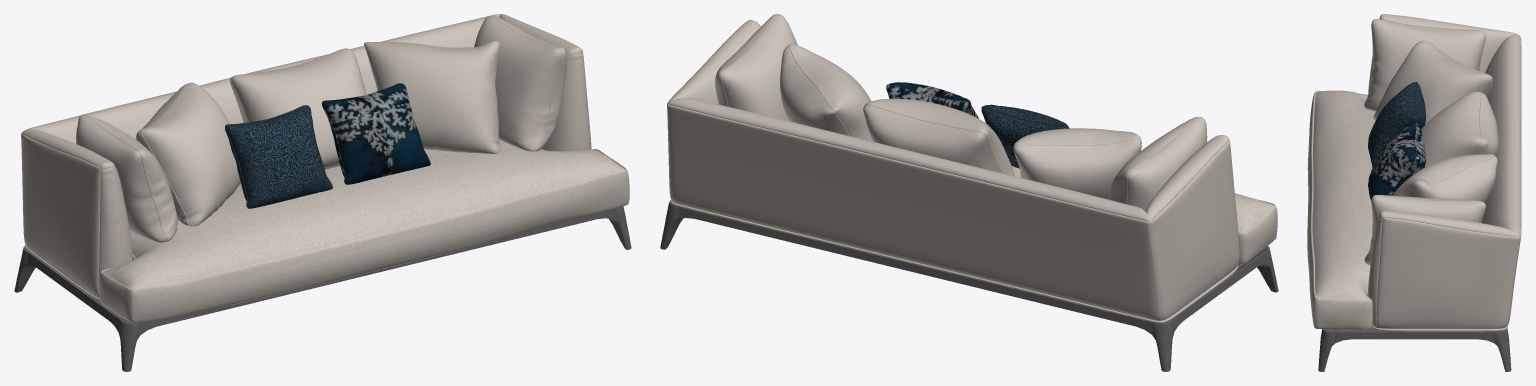
File: sofa_3.glb
3 views of the same model, side by side, from view 1: azimuth 30°, elevation 25°; view 2: azimuth 150°, elevation 25°; view 3: azimuth 270°, elevation 25° (orthographic). The views are drawn at different scales.
Parts seen in each view (by area): view 1: Geom3D (×2), Geom3D_3DGeom~1_Defintion#2_3DGeom~1, Geom3D_3DGeom~7_Defintion#3_3DGeom~7, Geom3D_3DGeom~6_Defintion#3_3DGeom~6, Geom3D_3DGeom~8_Defintion#2_3DGeom~8, Geom3D_3DGeom~9_Defintion#1_3DGeom~9, Geom3D_3DGeom~4_Defintion#2_3DGeom~4, Geom3D_3DGeom~5_Defintion#2_3DGeom~5, Geom3D_3DGeom~3_Defintion#2_3DGeom~3; view 2: Geom3D_3DGeom~1_Defintion#2_3DGeom~1, Geom3D_3DGeom~3_Defintion#2_3DGeom~3, Geom3D_3DGeom~4_Defintion#2_3DGeom~4, Geom3D_3DGeom~6_Defintion#3_3DGeom~6, Geom3D_3DGeom~7_Defintion#3_3DGeom~7, Geom3D_3DGeom~8_Defintion#2_3DGeom~8, Geom3D_3DGeom~5_Defintion#2_3DGeom~5, Geom3D (×2), Geom3D_3DGeom~9_Defintion#1_3DGeom~9; view 3: Geom3D_3DGeom~1_Defintion#2_3DGeom~1, Geom3D (×2), Geom3D_3DGeom~5_Defintion#2_3DGeom~5, Geom3D_3DGeom~6_Defintion#3_3DGeom~6, Geom3D_3DGeom~4_Defintion#2_3DGeom~4, Geom3D_3DGeom~7_Defintion#3_3DGeom~7, Geom3D_3DGeom~3_Defintion#2_3DGeom~3, Geom3D_3DGeom~8_Defintion#2_3DGeom~8, Geom3D_3DGeom~9_Defintion#1_3DGeom~9.
Boxes of the visible parts, x1=… form: Geom3D (×2): x1=99, y1=83, x2=629, y2=322; Geom3D_3DGeom~1_Defintion#2_3DGeom~1: x1=21, y1=14, x2=591, y2=300; Geom3D_3DGeom~7_Defintion#3_3DGeom~7: x1=364, y1=40, x2=500, y2=153; Geom3D_3DGeom~6_Defintion#3_3DGeom~6: x1=135, y1=82, x2=240, y2=226; Geom3D_3DGeom~8_Defintion#2_3DGeom~8: x1=474, y1=15, x2=566, y2=151; Geom3D_3DGeom~9_Defintion#1_3DGeom~9: x1=225, y1=105, x2=332, y2=208; Geom3D_3DGeom~4_Defintion#2_3DGeom~4: x1=230, y1=48, x2=366, y2=169; Geom3D_3DGeom~5_Defintion#2_3DGeom~5: x1=76, y1=114, x2=177, y2=242; Geom3D_3DGeom~3_Defintion#2_3DGeom~3: x1=14, y1=206, x2=631, y2=371; Geom3D_3DGeom~1_Defintion#2_3DGeom~1: x1=667, y1=20, x2=1239, y2=323; Geom3D_3DGeom~3_Defintion#2_3DGeom~3: x1=660, y1=200, x2=1278, y2=371; Geom3D_3DGeom~4_Defintion#2_3DGeom~4: x1=863, y1=98, x2=1014, y2=176; Geom3D_3DGeom~6_Defintion#3_3DGeom~6: x1=1013, y1=128, x2=1141, y2=199; Geom3D_3DGeom~7_Defintion#3_3DGeom~7: x1=780, y1=44, x2=872, y2=141; Geom3D_3DGeom~8_Defintion#2_3DGeom~8: x1=715, y1=14, x2=797, y2=120; Geom3D_3DGeom~5_Defintion#2_3DGeom~5: x1=1108, y1=116, x2=1207, y2=211; Geom3D (×2): x1=886, y1=82, x2=1277, y2=264; Geom3D_3DGeom~9_Defintion#1_3DGeom~9: x1=981, y1=104, x2=1069, y2=168; Geom3D_3DGeom~1_Defintion#2_3DGeom~1: x1=1368, y1=14, x2=1521, y2=331; Geom3D (×2): x1=1307, y1=90, x2=1425, y2=329; Geom3D_3DGeom~5_Defintion#2_3DGeom~5: x1=1364, y1=19, x2=1485, y2=111; Geom3D_3DGeom~6_Defintion#3_3DGeom~6: x1=1373, y1=40, x2=1492, y2=124; Geom3D_3DGeom~4_Defintion#2_3DGeom~4: x1=1421, y1=91, x2=1498, y2=167; Geom3D_3DGeom~7_Defintion#3_3DGeom~7: x1=1392, y1=154, x2=1497, y2=203; Geom3D_3DGeom~3_Defintion#2_3DGeom~3: x1=1318, y1=328, x2=1511, y2=371; Geom3D_3DGeom~8_Defintion#2_3DGeom~8: x1=1364, y1=195, x2=1485, y2=265; Geom3D_3DGeom~9_Defintion#1_3DGeom~9: x1=1368, y1=82, x2=1425, y2=167.
Size of the model in its own units: 2.04 by 0.7132 by 0.8709.
3 materials, 2 textured.
